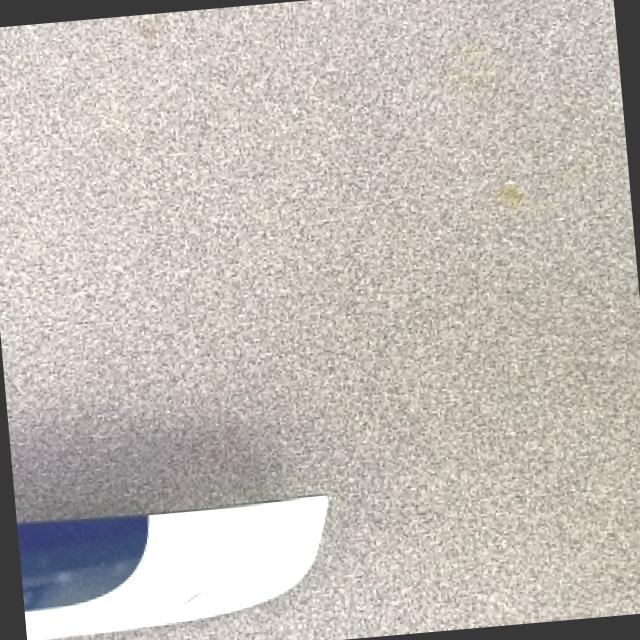healthy: (24, 493, 323, 639)
